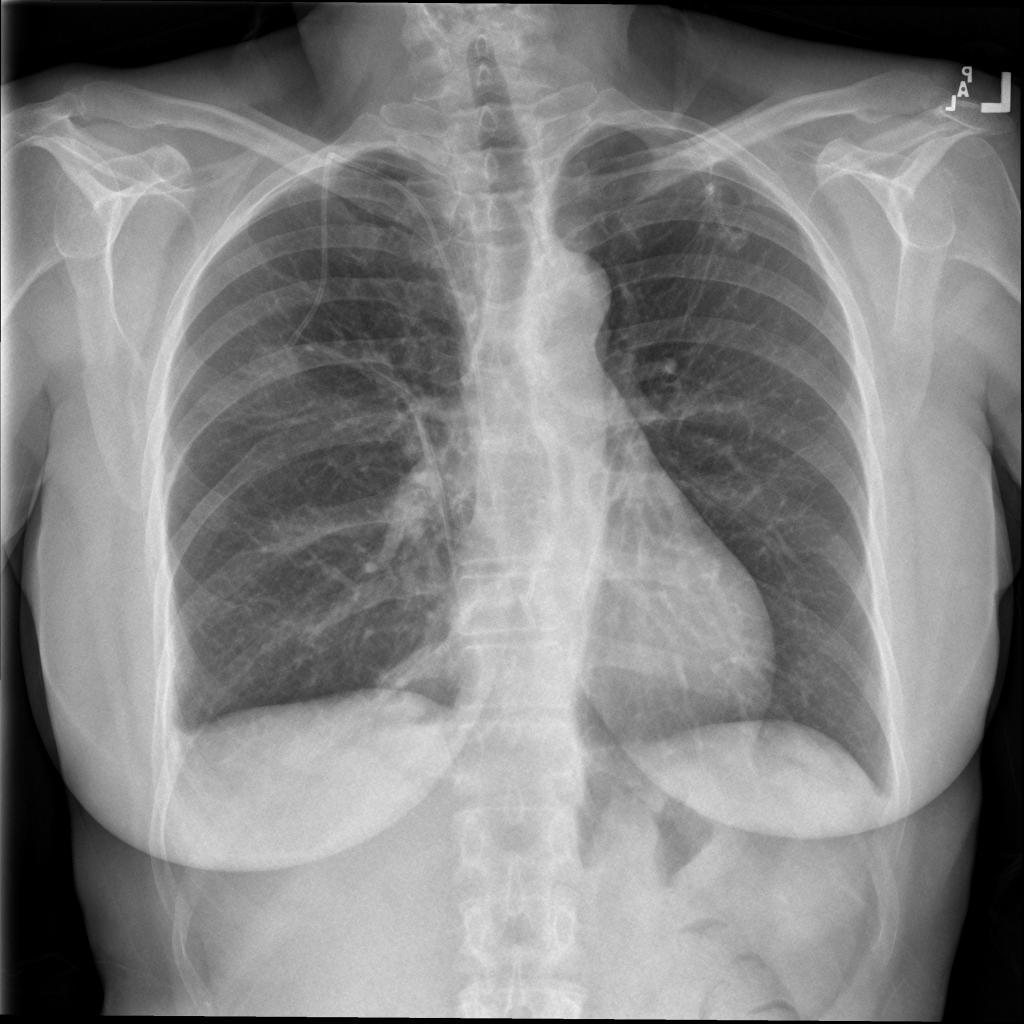Nodule: (145, 248, 171, 275)
